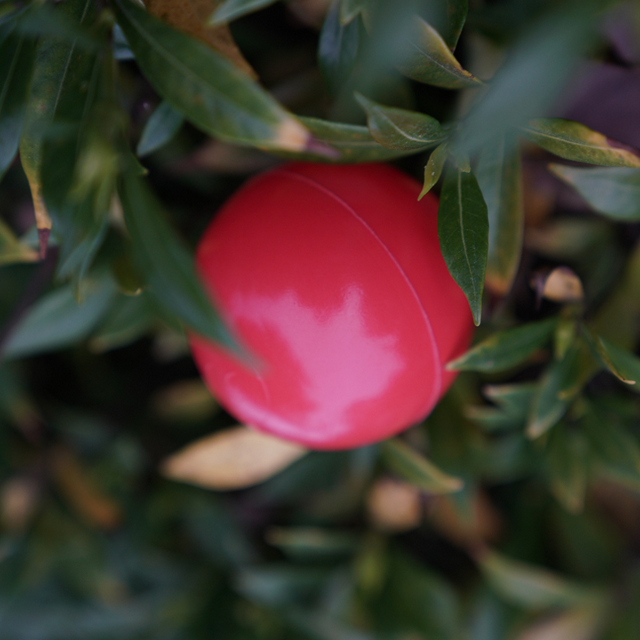Ball: (183, 156, 469, 439)
